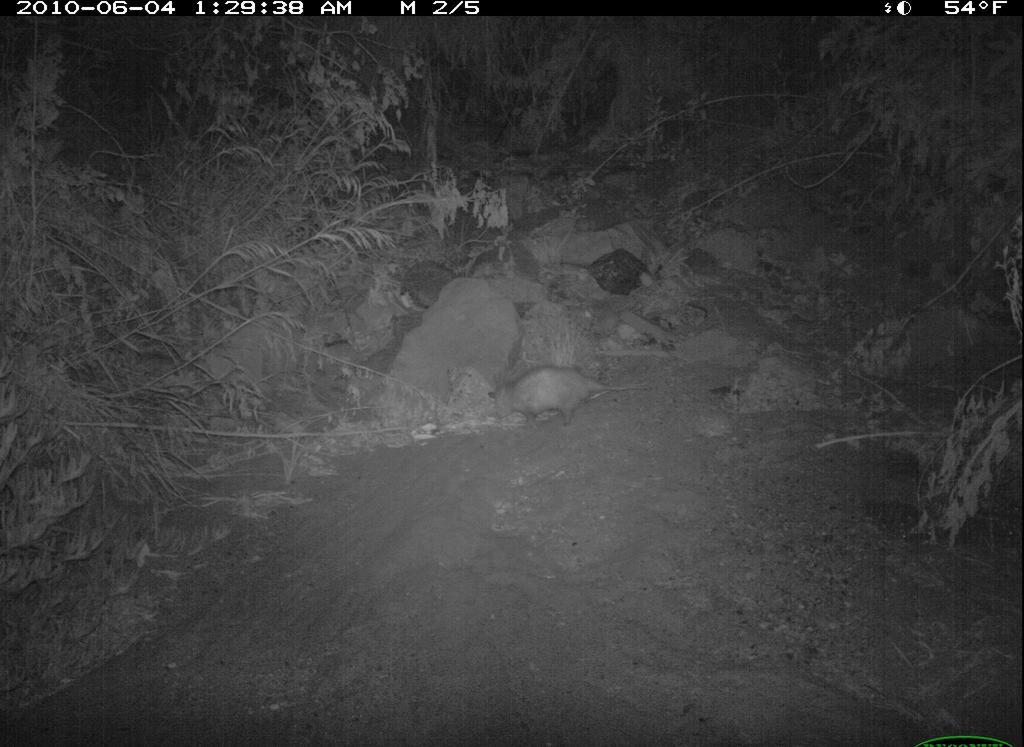opossum: (484, 361, 647, 435)
